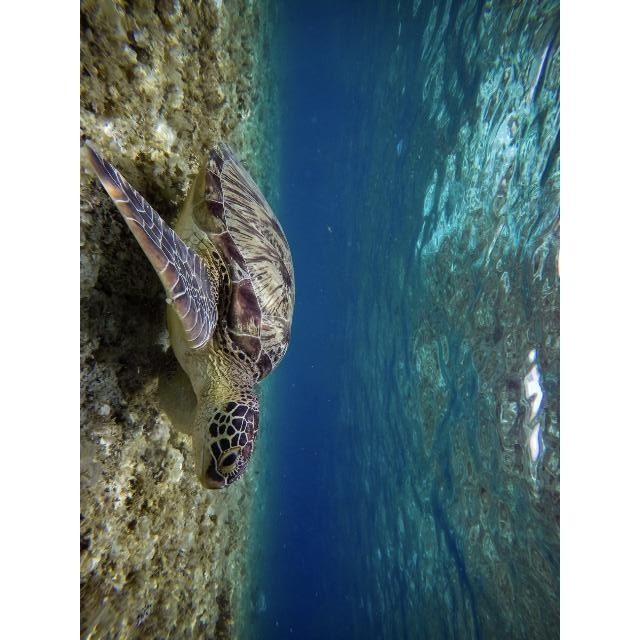turtle: (82, 138, 297, 490)
